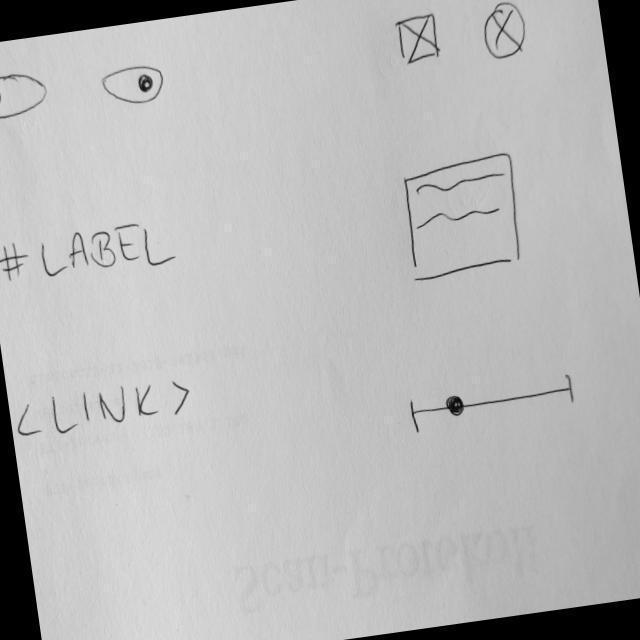image: (479, 1, 533, 62), (393, 11, 446, 69)
label: (1, 214, 180, 293)
link: (12, 374, 197, 444)
slider: (407, 370, 579, 437)
textarea: (399, 150, 530, 286)
toggle: (100, 61, 168, 112), (1, 66, 53, 124)
